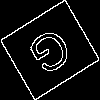G: (25, 25, 80, 85)
